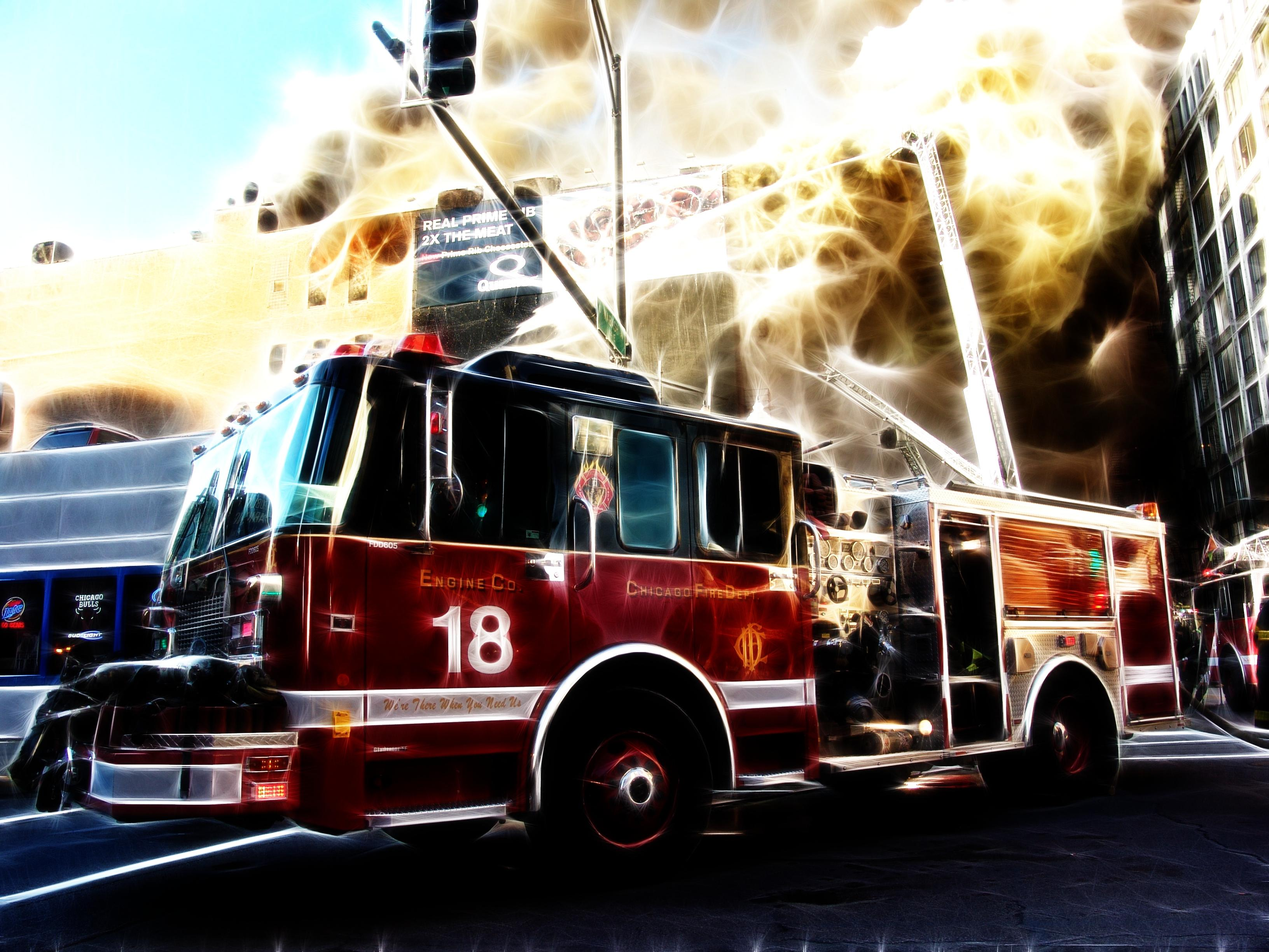Fire-engine: (29, 332, 1188, 863)
